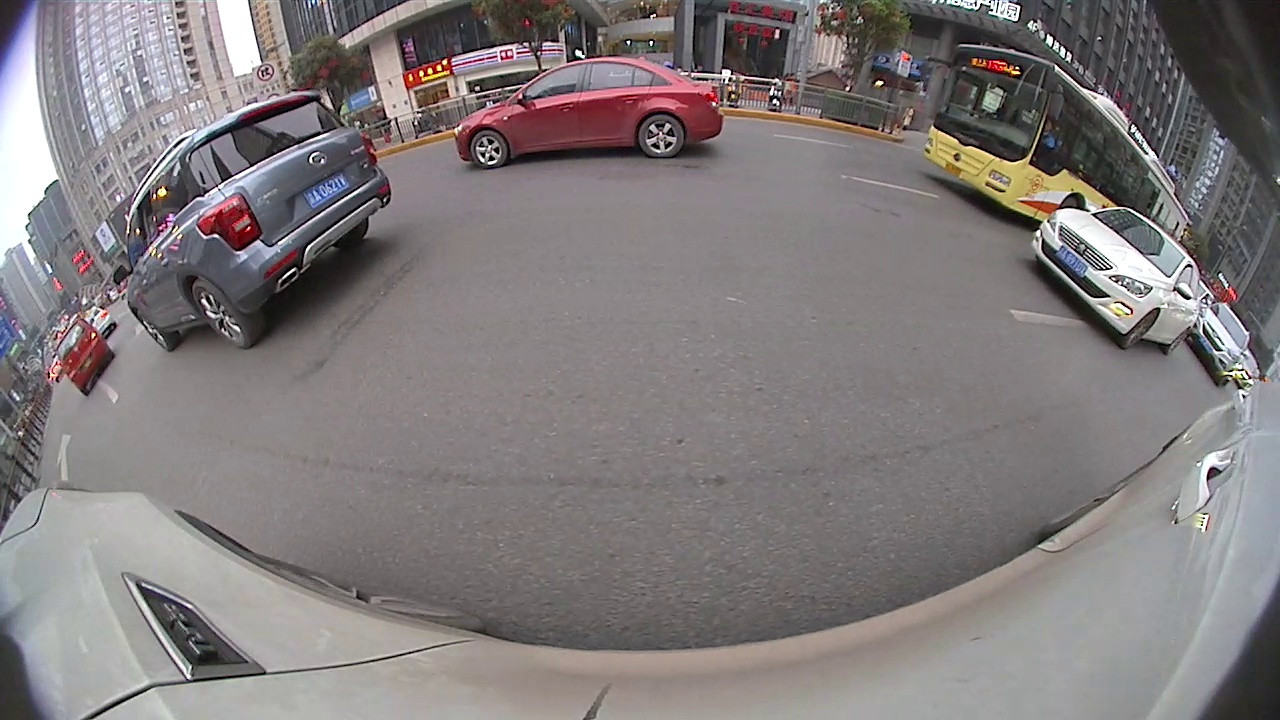bus: (918, 38, 1192, 242)
car: (112, 87, 397, 353), (453, 53, 728, 170), (1027, 201, 1198, 358), (1180, 298, 1251, 388)
front: (132, 305, 178, 354), (469, 130, 511, 171), (1121, 309, 1159, 349)
rear: (191, 280, 255, 351), (637, 113, 685, 161)
rider: (52, 313, 116, 395)
